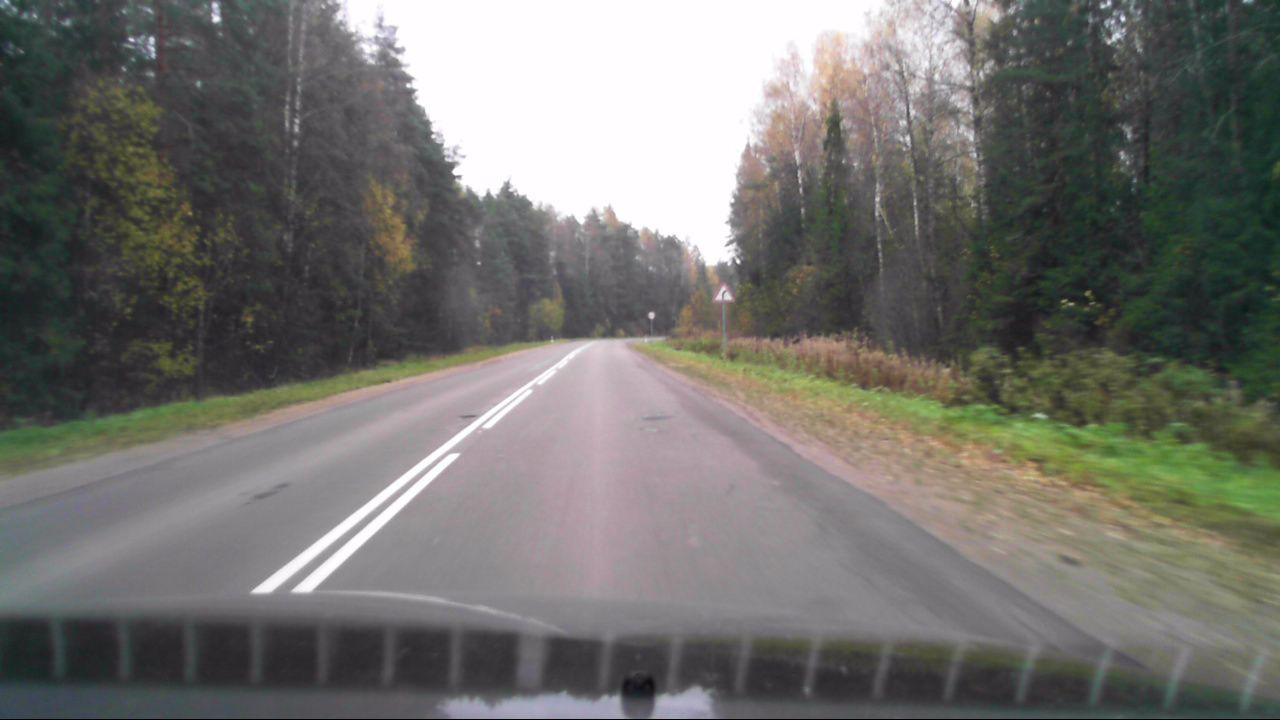road_sign: (709, 279, 738, 303)
